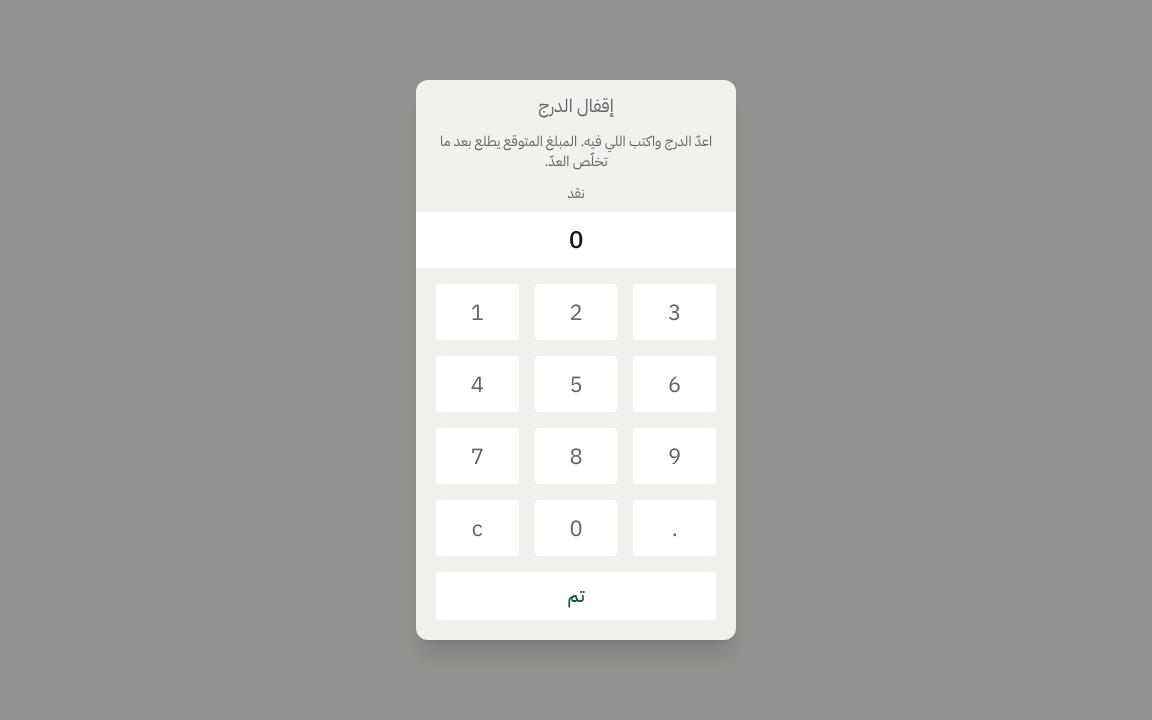
Scenario: counting a drawer out › hides it all again to count again
Click the button "تم": (576, 596) 436,572 -> 716,620
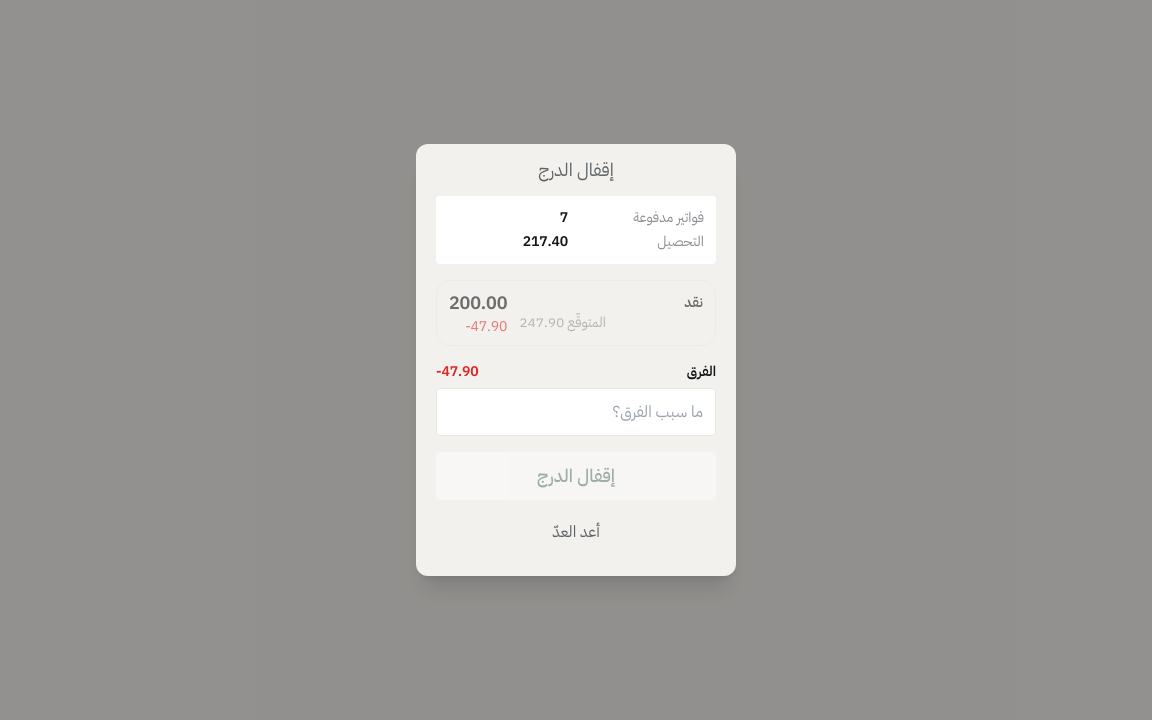
Click the button "أعد العدّ": (576, 532) 436,508 -> 716,556
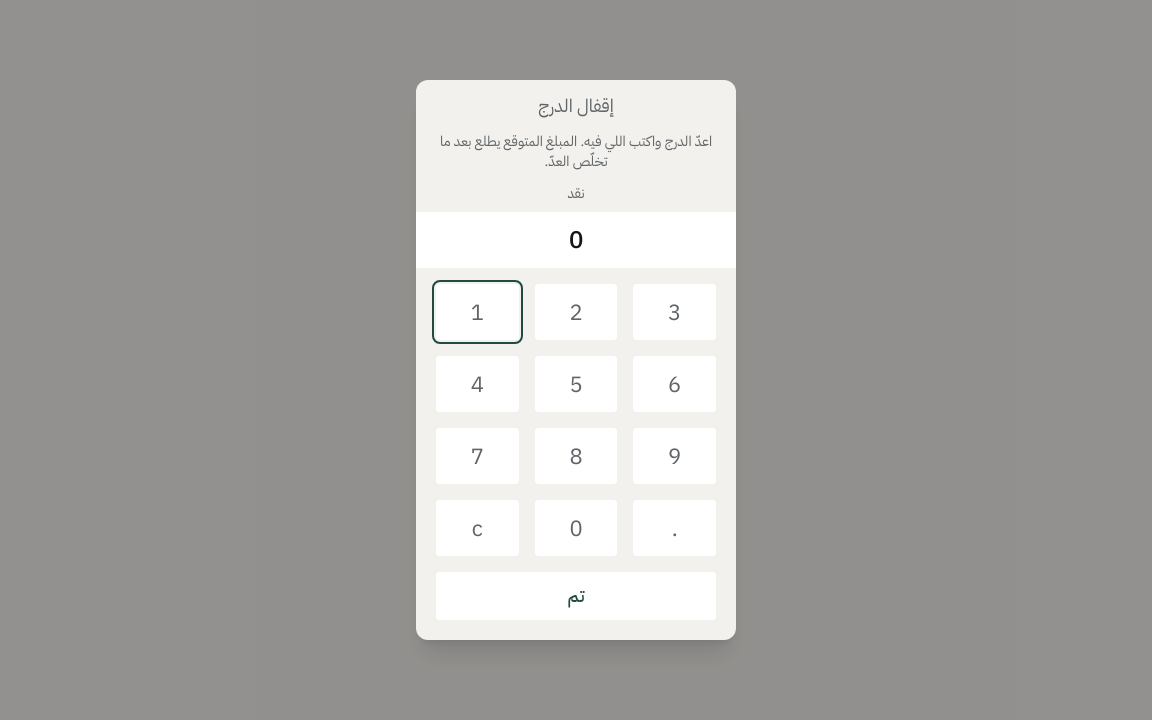
Result: the text "247.90" is gone
